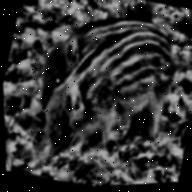boar: (28, 16, 190, 188), (30, 0, 185, 119)
